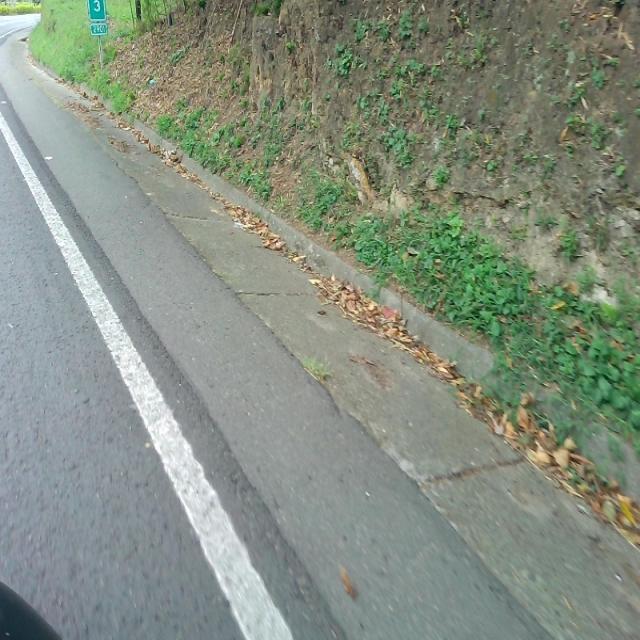DITCH: (4, 2, 638, 638), (1, 7, 639, 638), (3, 19, 637, 638)
